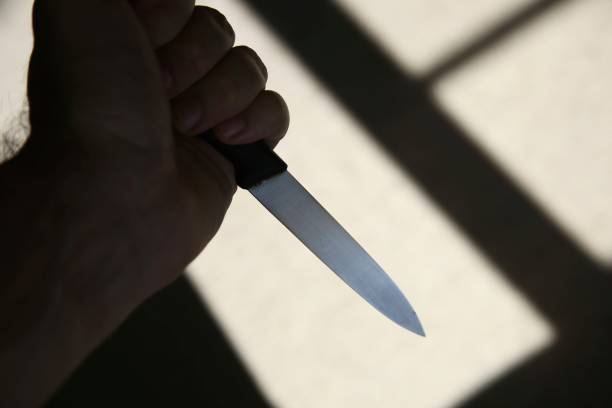knife: (195, 124, 427, 341)
